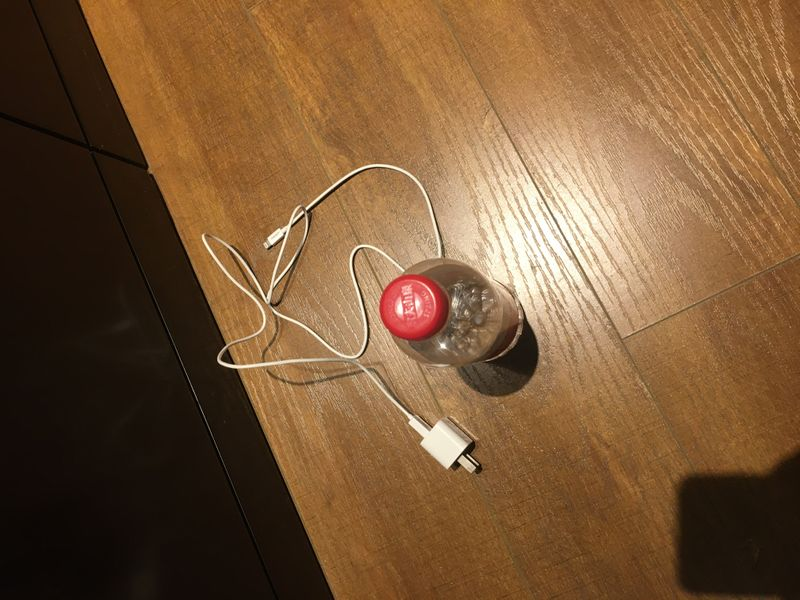5eca67a90202601e8cb8d104: (376, 253, 532, 373)
